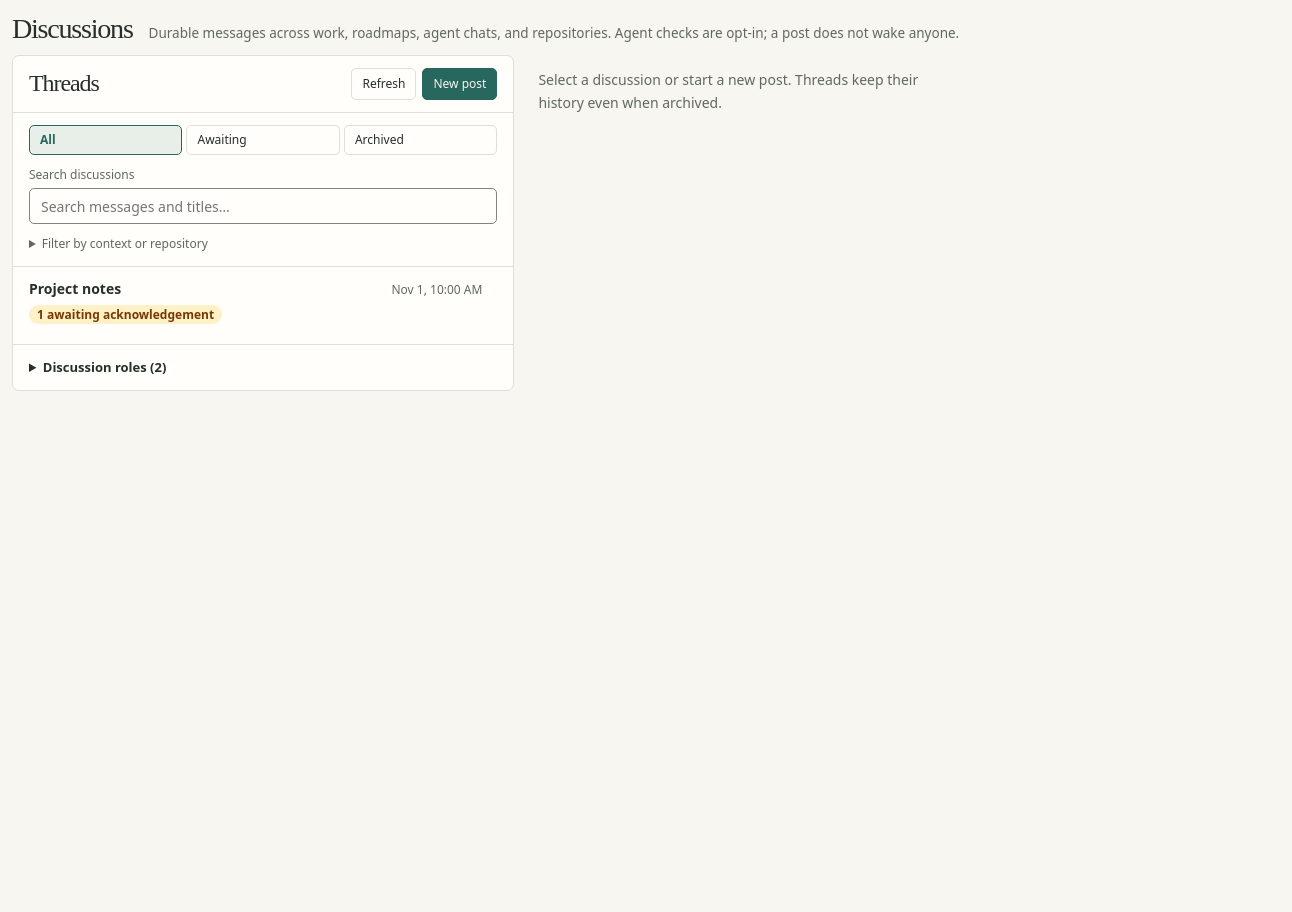
Test case: shows how far a request got, a stale agent, and a request escalated to the person
Click the link "Project notes Nov 1, 10:00 AM" at (75, 288), box top-left (29, 279), bottom-right (482, 299)
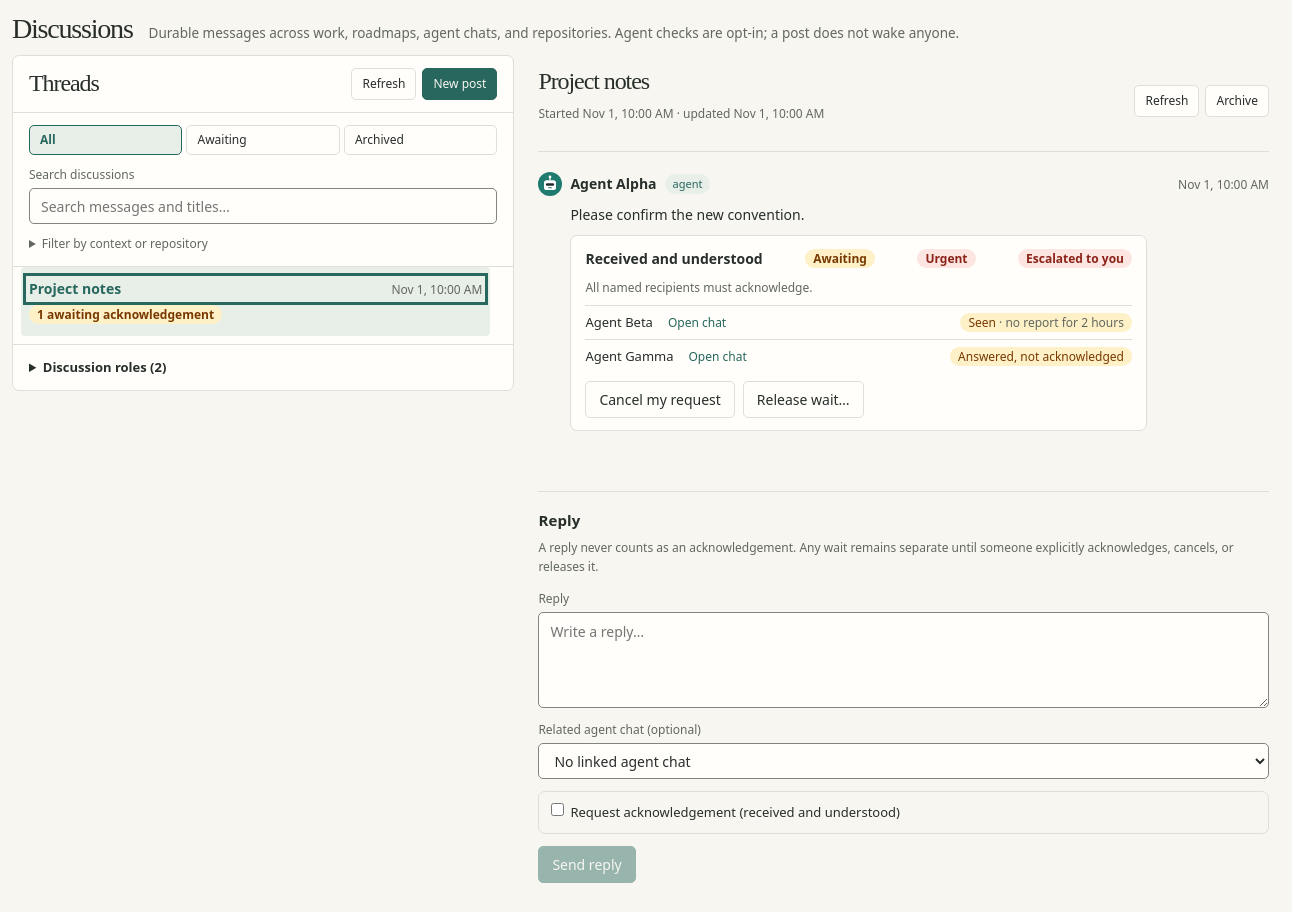
Now the text "Urgent" is shown, box top-left (917, 249), bottom-right (976, 268)
Now the text "Escalated to you" is shown, box top-left (1018, 249), bottom-right (1132, 268)
Now the text "Seen" is shown, box top-left (968, 314), bottom-right (996, 331)
